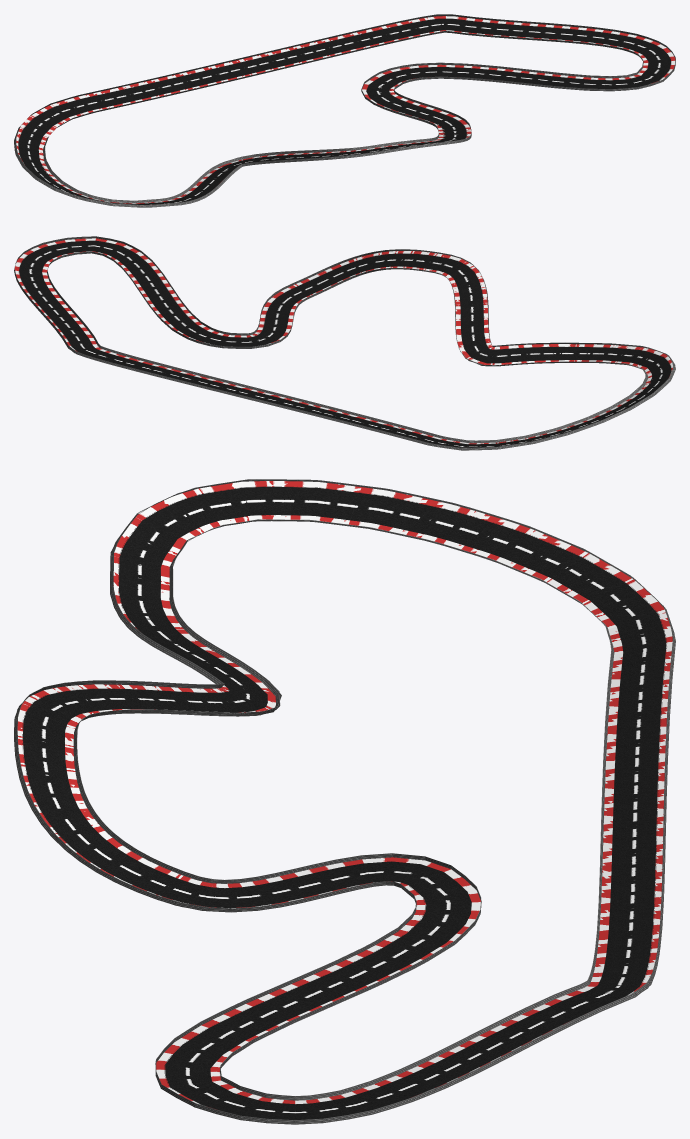
The model's file is CircuitoDificil.fbx.
3 renders of one model, top to bottom at view 1: azimuth 30°, elevation 25°; view 2: azimuth 150°, elevation 25°; view 3: azimuth 270°, elevation 25°, orthographic. The views are drawn at different scales.
Visible parts, largest first — view 1: Suelo.003, Extremos.002, ParedExt.003, ParedInt.003; view 2: Suelo.003, Extremos.002, ParedExt.003, ParedInt.003; view 3: Suelo.003, Extremos.002, ParedExt.003, ParedInt.003.
Boxes of the visible parts, x1,y1,x2,y2 form: Suelo.003: [18, 18, 670, 204]; Extremos.002: [16, 16, 675, 203]; ParedExt.003: [14, 14, 675, 207]; ParedInt.003: [43, 31, 643, 203]; Suelo.003: [19, 240, 671, 447]; Extremos.002: [14, 238, 672, 444]; ParedExt.003: [14, 236, 675, 450]; ParedInt.003: [47, 251, 648, 443]; Suelo.003: [23, 487, 666, 1119]; Extremos.002: [17, 481, 672, 1109]; ParedExt.003: [14, 479, 675, 1124]; ParedInt.003: [73, 519, 614, 1100].
Size of the model in its own units: 29416 by 1732 by 13509.
Materials: 2 (2 with a texture image).
